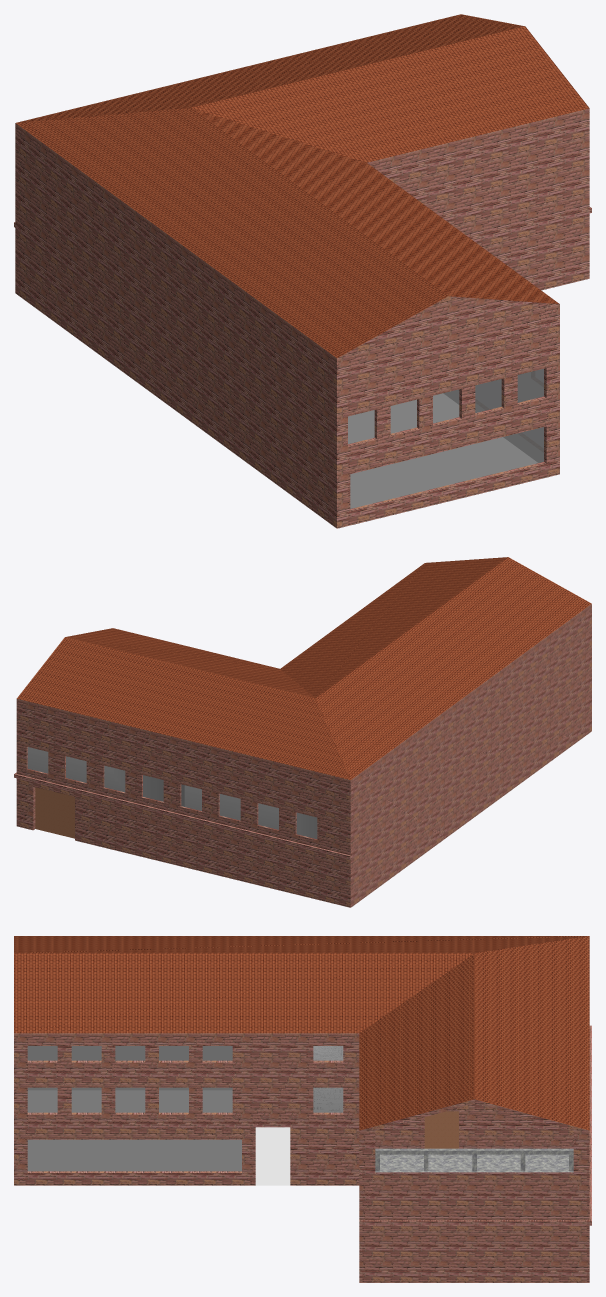
The picture shows the model from 3 angles, top to bottom: view 1: azimuth 30°, elevation 25°; view 2: azimuth 150°, elevation 25°; view 3: azimuth 270°, elevation 25°; orthographic projection. The views are drawn at different scales.
Visible parts, largest first — view 1: SketchUp (×11); view 2: SketchUp (×11); view 3: SketchUp (×18).
Boxes of the visible parts, <box> form: SketchUp (×11): <box>14,14,591,528</box>; SketchUp (×11): <box>14,557,591,907</box>; SketchUp (×18): <box>14,936,591,1282</box>.
Bounding box in the file's own units: 791 × 988 × 346.
Materials: 8 (6 with a texture image).
